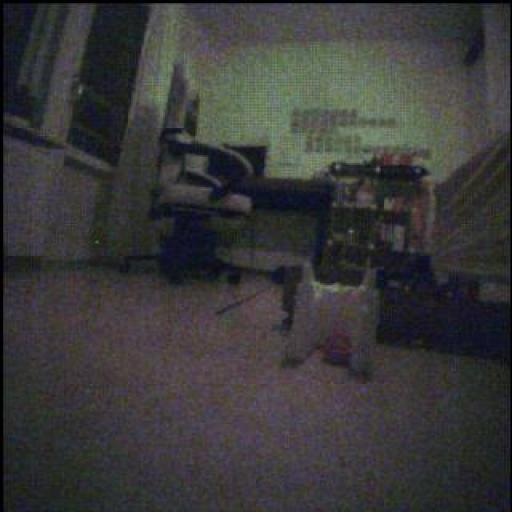basket: (324, 329, 352, 364)
